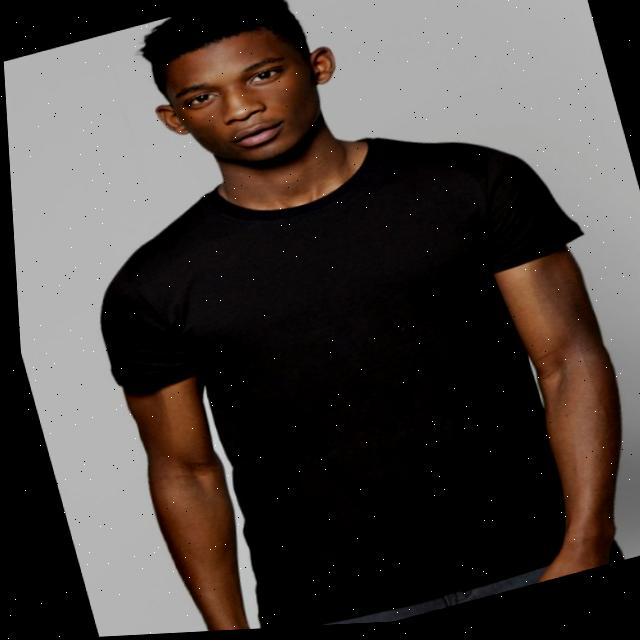Upper-Body: (97, 144, 579, 631)
